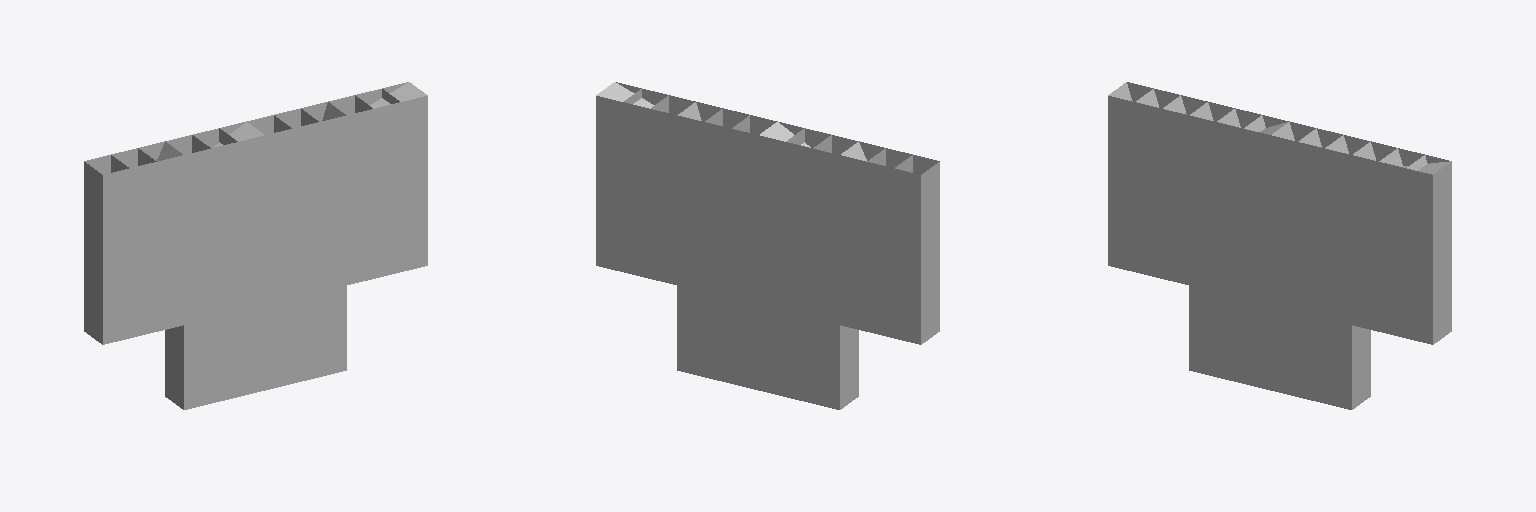
The model's file is 3d_Kalidar - Pond 07.wlw.obj.
3 renders of one model, left to right at view 1: azimuth 30°, elevation 25°; view 2: azimuth 150°, elevation 25°; view 3: azimuth 330°, elevation 25°, orthographic.
Size of the model in its own units: 100 by 75 by 10.